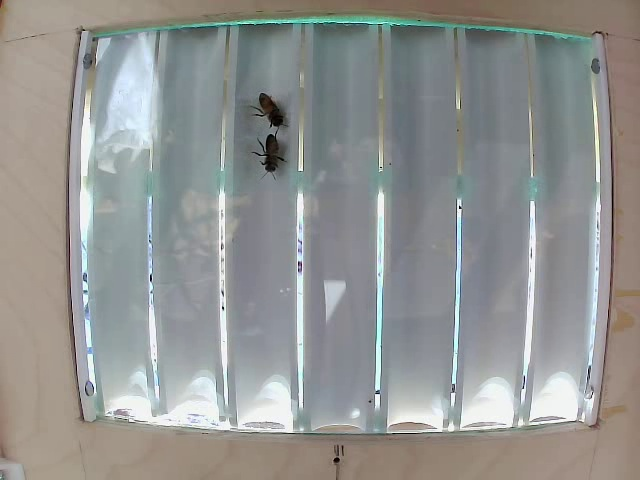bee: (251, 132, 295, 185), (247, 87, 280, 144)
